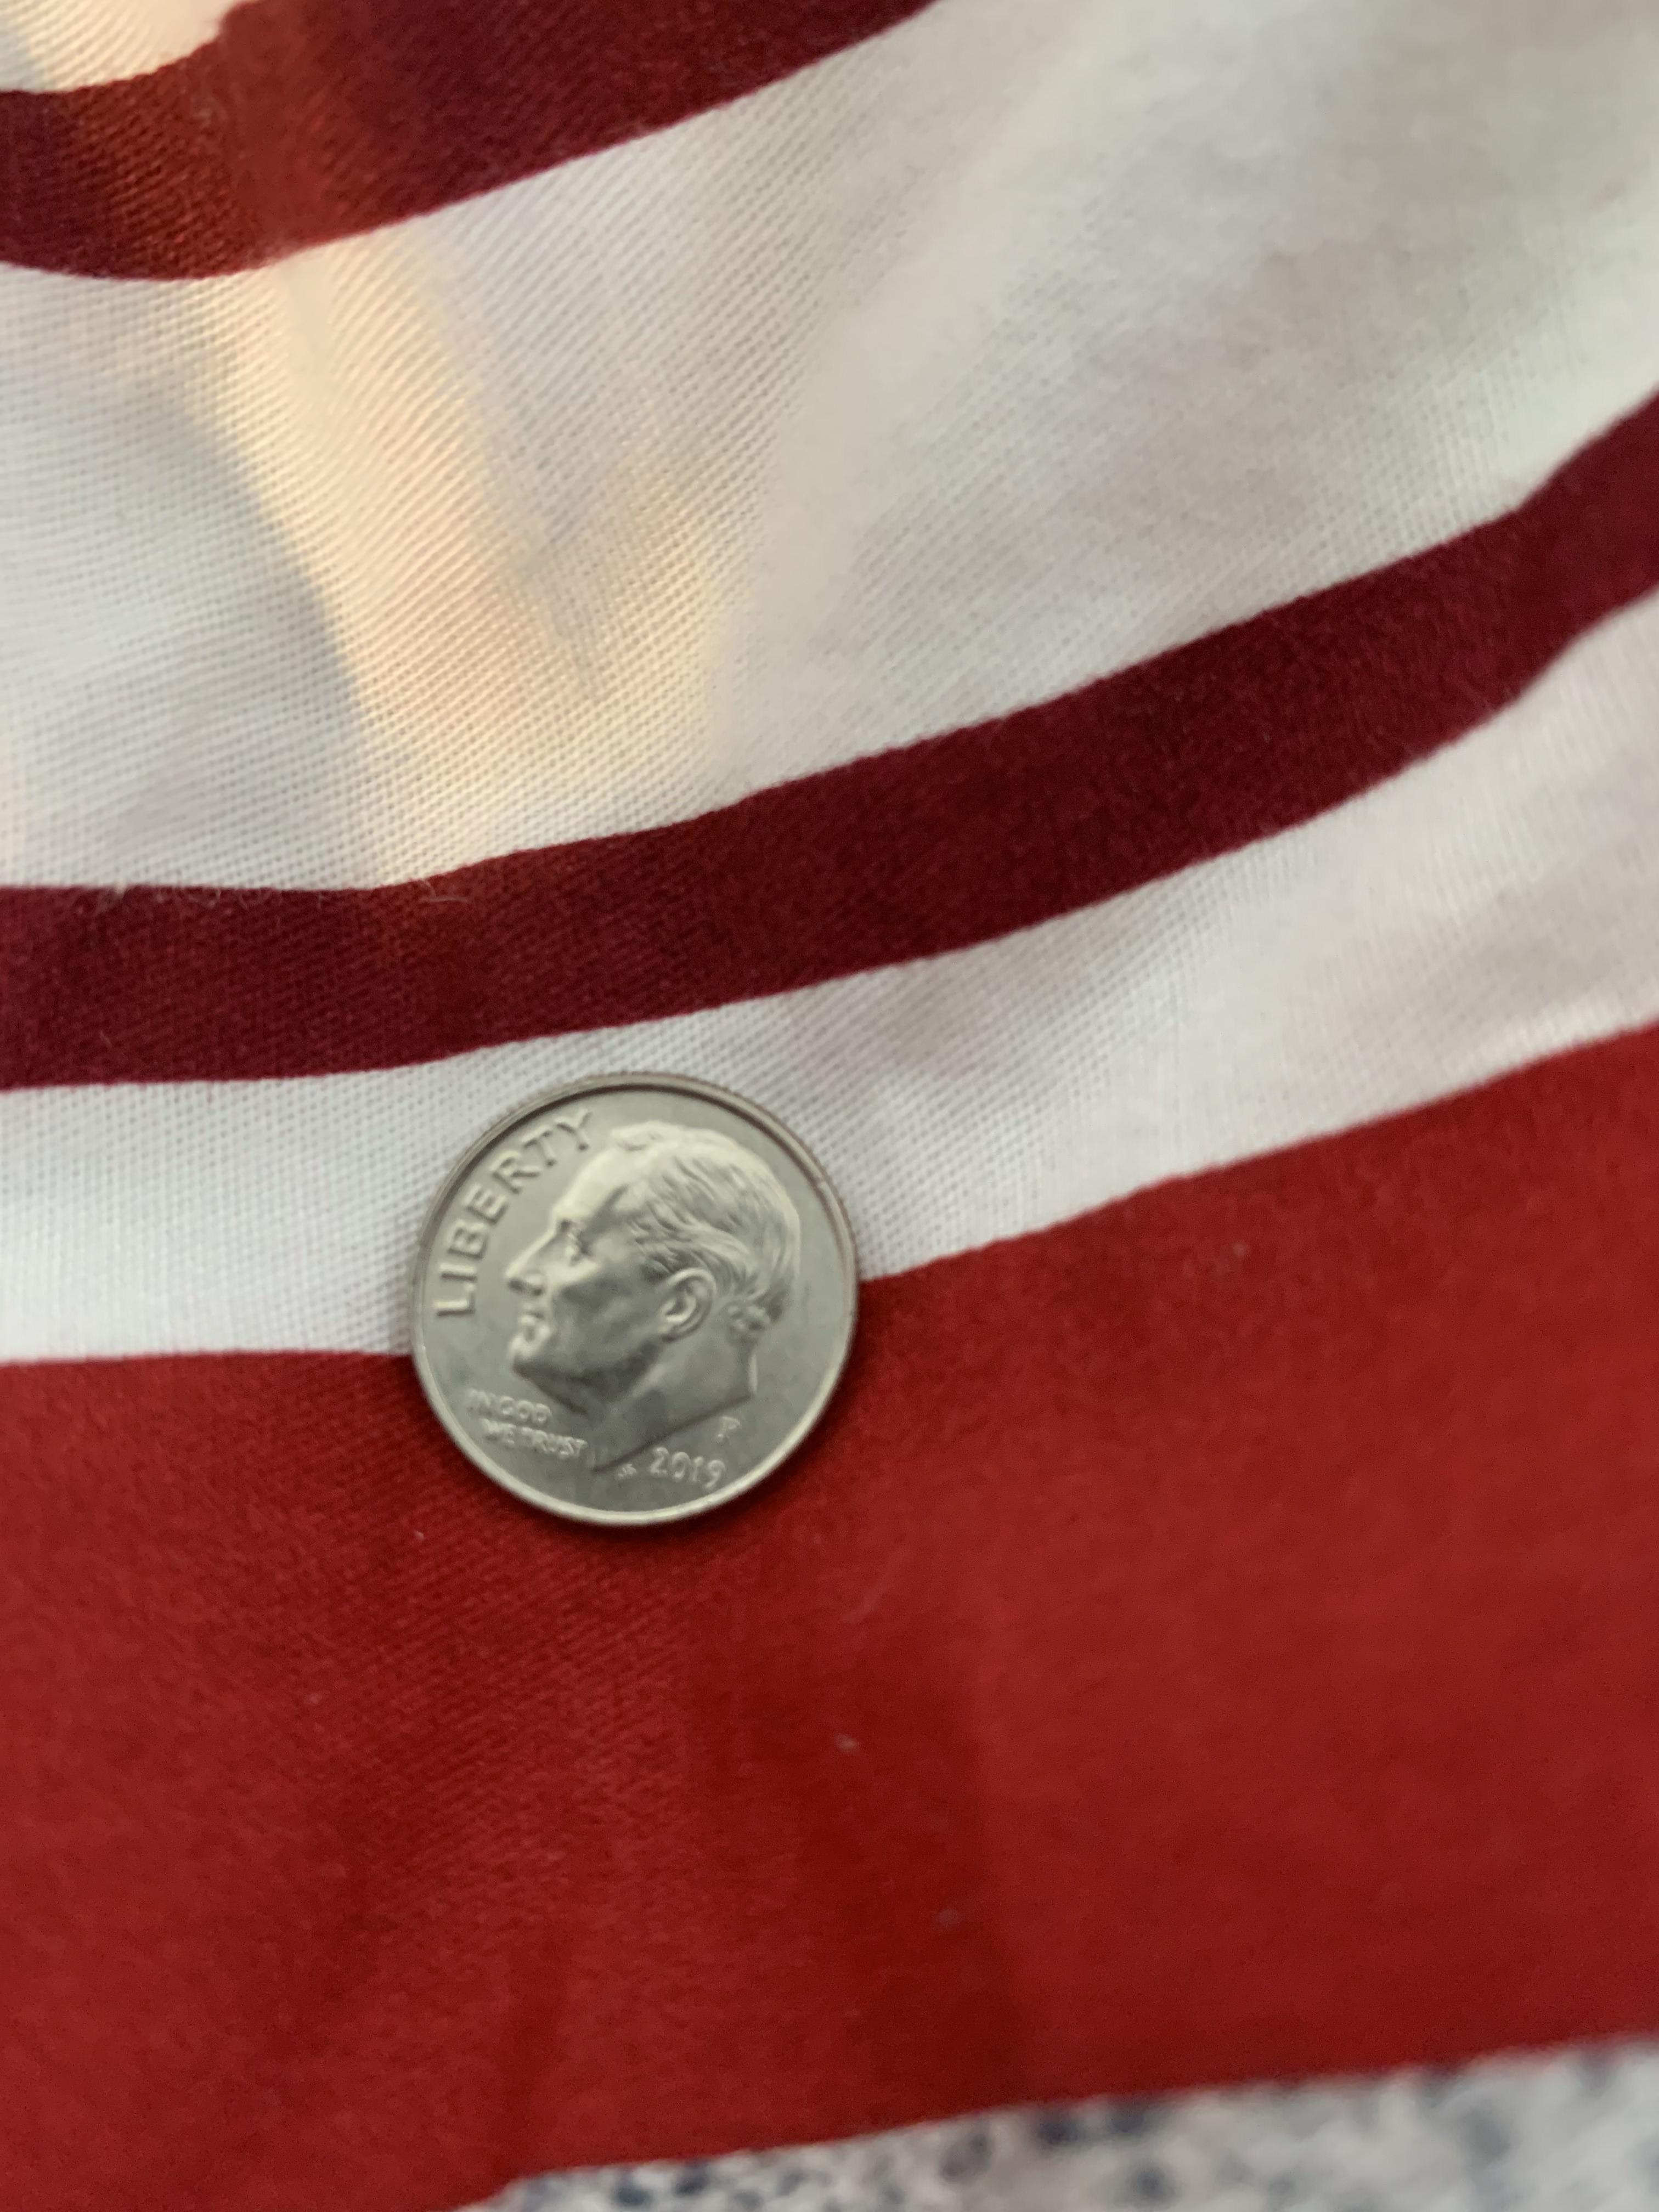Dime: (385, 1047, 890, 1538)
